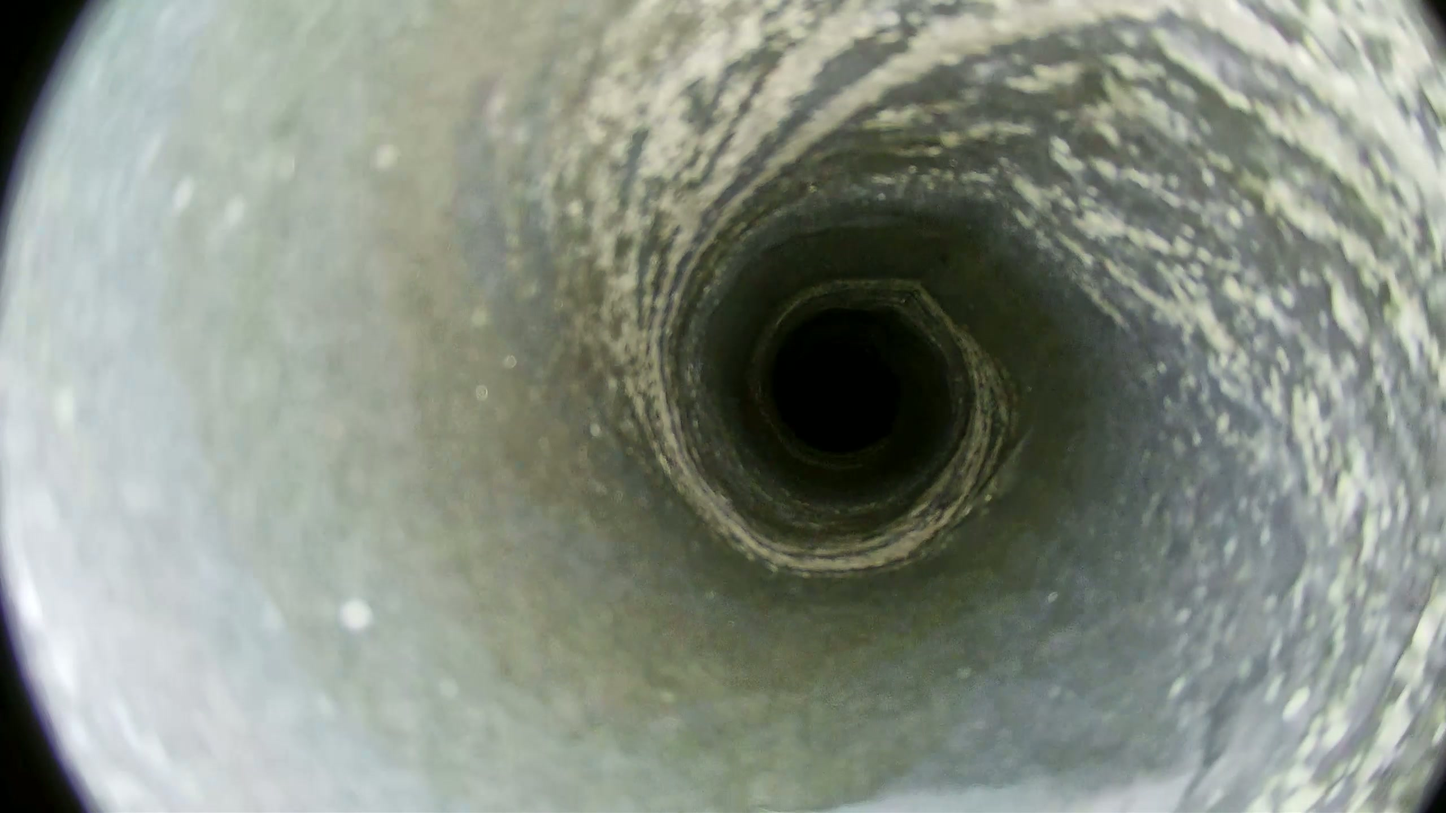hole: (782, 342, 900, 453)
